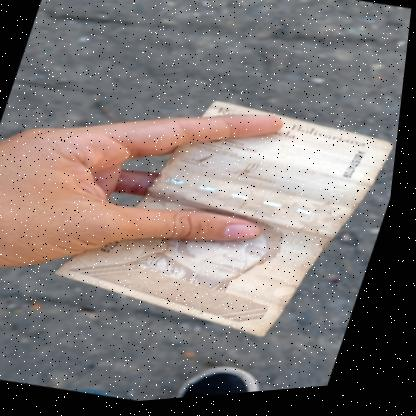five-front-vef: (43, 67, 408, 372)
